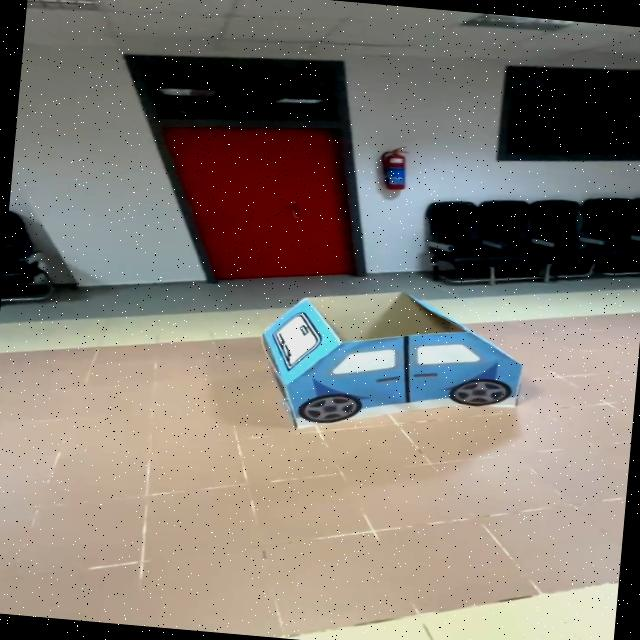blue_car: (223, 270, 561, 458)
